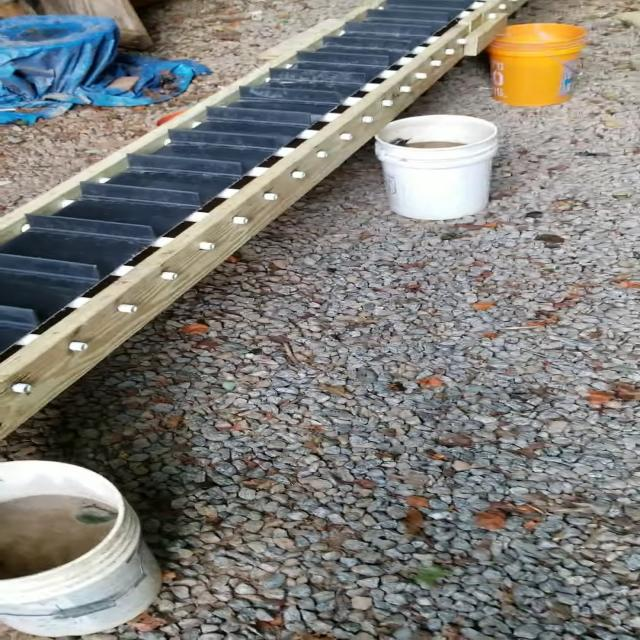Convoyeur: (0, 0, 551, 439)
